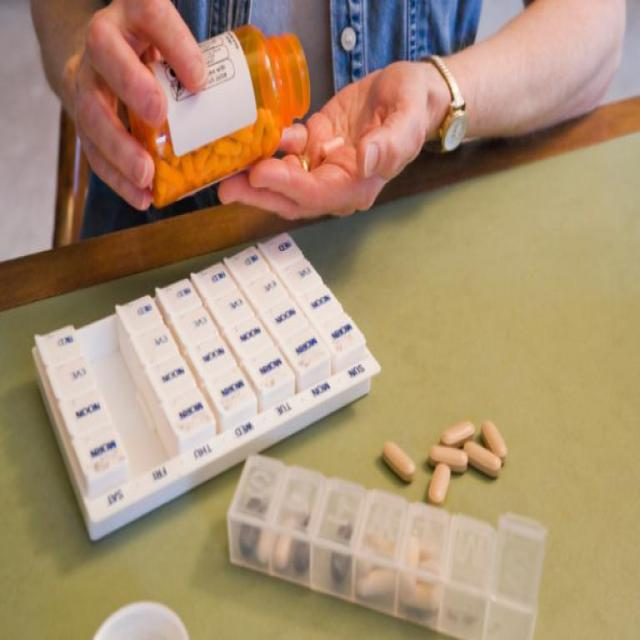B3: (381, 414, 511, 510)
